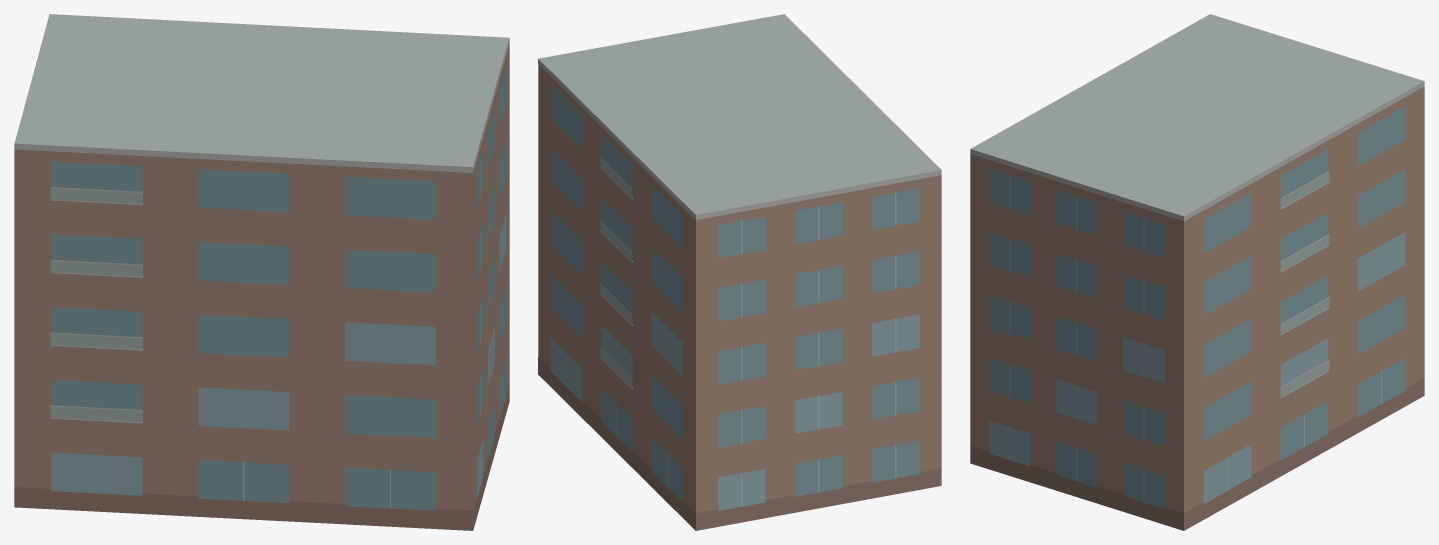
File: survey-upis-32632285.glb
The picture shows the model from 3 angles, left to right: view 1: azimuth 30°, elevation 25°; view 2: azimuth 150°, elevation 25°; view 3: azimuth 270°, elevation 25°; orthographic projection. The views are drawn at different scales.
Parts seen in each view (by area): view 1: survey-upis-32632285.tmp; view 2: survey-upis-32632285.tmp; view 3: survey-upis-32632285.tmp.
Part boxes in pixels (<box>): survey-upis-32632285.tmp: <box>14,14,509,530</box>; survey-upis-32632285.tmp: <box>538,14,941,530</box>; survey-upis-32632285.tmp: <box>970,14,1424,530</box>.
Size of the model in its own units: 21 by 15.2 by 19.92.
